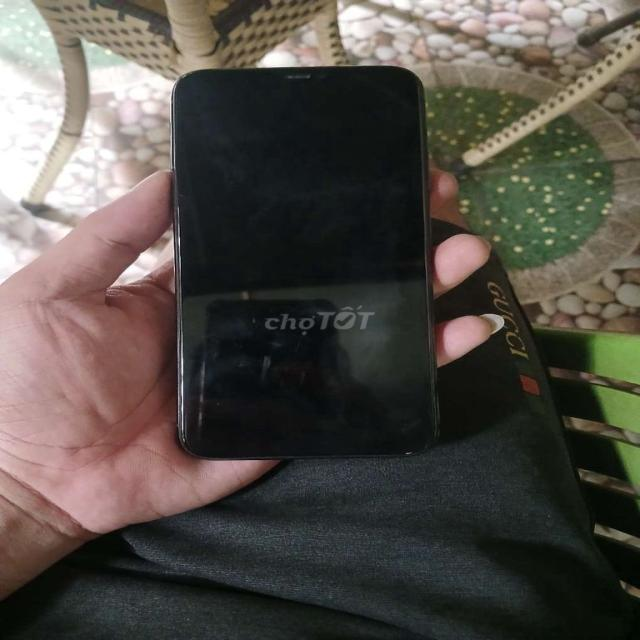scratch: (173, 411, 191, 442), (280, 68, 315, 81), (174, 74, 198, 82), (400, 449, 416, 458)
